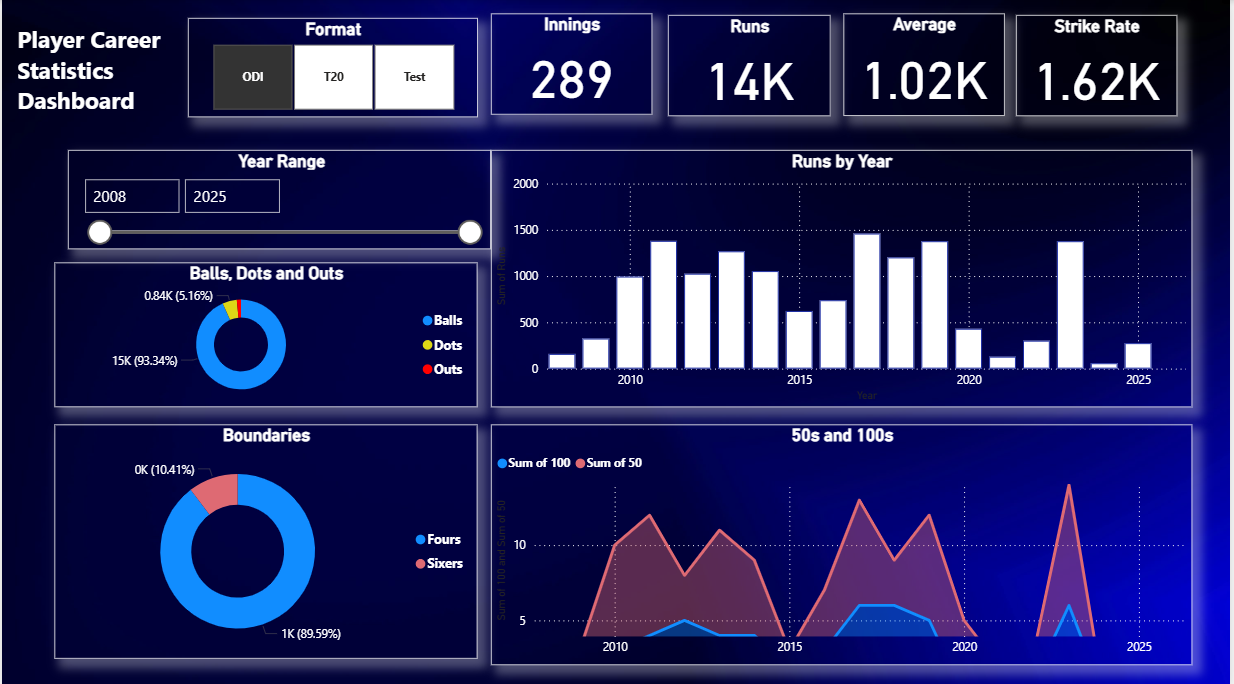

The dashboard page shown, as its layout file describes it:
{"tool":"powerbi","page":{"name":"Page 1","canvas":[1280,720],"ordinal":0},"visuals":[{"type":"textbox","box":[10.2,18.6,162.7,115.3],"z":0},{"type":"card","title":"Innings","fields":{"Values":["Sum(Table 1.Innings)"]},"box":[510.2,13.6,167.8,105.1],"z":1000},{"type":"card","title":"Runs","fields":{"Values":["Sum(Table 1.Runs)"]},"box":[693.2,15.3,169.5,105.1],"z":2000},{"type":"card","title":"Average","fields":{"Values":["Sum(Table 1.Avg)"]},"box":[876.3,13.6,167.8,106.8],"z":3000},{"type":"card","title":"Strike Rate","fields":{"Values":["Sum(Table 1.SR)"]},"box":[1055.9,15.3,167.8,105.1],"z":4000},{"type":"slicer","title":"Format","fields":{"Values":["Table 1.Format"]},"box":[193.2,18.6,301.7,103.4],"z":5000},{"type":"slicer","title":"Year Range","fields":{"Values":["Table 1.Year"]},"box":[69.5,155.9,440.7,103.4],"z":6000},{"type":"clusteredColumnChart","title":"Runs by Year","fields":{"Y":["Sum(Table 1.Runs)"],"Category":["Table 1.Year"]},"box":[510.2,155.9,730.5,267.8],"z":7000},{"type":"donutChart","title":"Boundaries","fields":{"Y":["Sum(Table 1.4s)","Sum(Table 1.6s)"]},"box":[54.2,442.4,440.7,244.1],"z":8000},{"type":"stackedAreaChart","title":"50s and 100s","fields":{"Y":["Sum(Table 1.100)","Sum(Table 1.50)"],"Category":["Table 1.Year"]},"box":[510.2,442.4,730.5,250.8],"z":9000},{"type":"donutChart","title":"Balls, Dots and Outs","fields":{"Y":["Sum(Table 1.Balls)","Sum(Table 1.Dot %)","Sum(Table 1.Outs)"]},"box":[54.2,272.9,440.7,150.8],"z":10000}]}

Visuals, with their boxes in screenshot pixels (x1, y1, x2, y2), scaled from the page's 1280x720 canvas onto the 1234x684 screenshot:
textbox: crop(10, 18, 167, 127)
"Innings" card: crop(492, 13, 654, 113)
"Runs" card: crop(668, 15, 832, 114)
"Average" card: crop(845, 13, 1007, 114)
"Strike Rate" card: crop(1018, 15, 1180, 114)
"Format" slicer: crop(186, 18, 477, 116)
"Year Range" slicer: crop(67, 148, 492, 246)
"Runs by Year" clusteredColumnChart: crop(492, 148, 1196, 403)
"Boundaries" donutChart: crop(52, 420, 477, 652)
"50s and 100s" stackedAreaChart: crop(492, 420, 1196, 659)
"Balls, Dots and Outs" donutChart: crop(52, 259, 477, 403)
